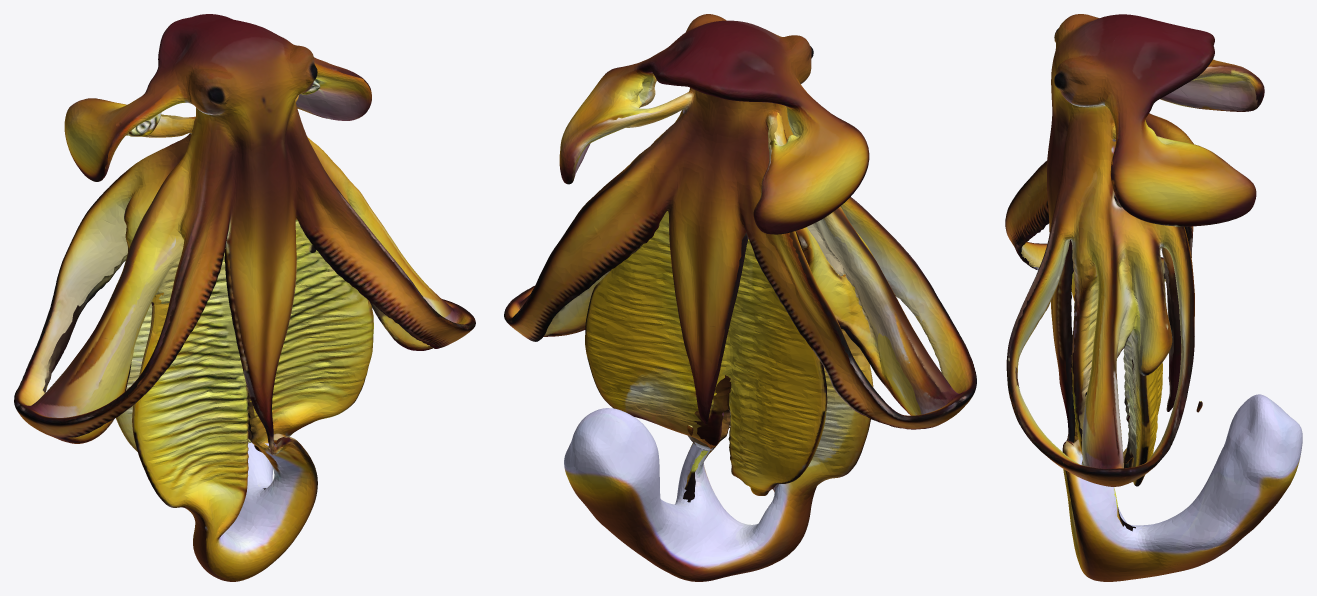
Rendered from paint_mesh_a Dumbo Octopus.glb.
The picture shows the model from 3 angles, left to right: view 1: azimuth 30°, elevation 25°; view 2: azimuth 150°, elevation 25°; view 3: azimuth 270°, elevation 25°; orthographic projection. The views are drawn at different scales.
Parts seen in each view (by area): view 1: world; view 2: world; view 3: world.
Part boxes in pixels (bbox=[...]): world: bbox=[14, 14, 475, 581]; world: bbox=[504, 14, 976, 581]; world: bbox=[1005, 14, 1302, 581].
Size of the model in its own units: 1.72 by 1.99 by 0.9682.
1 material, 1 textured.
